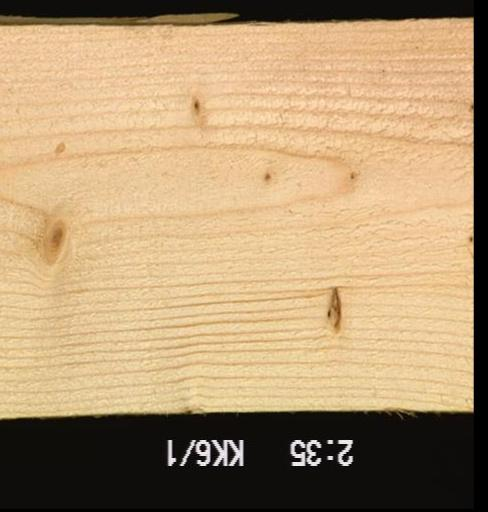small_knot: (179, 92, 208, 121), (255, 167, 277, 184), (463, 98, 471, 117), (463, 231, 471, 249)
sound_knot: (29, 216, 76, 263)
